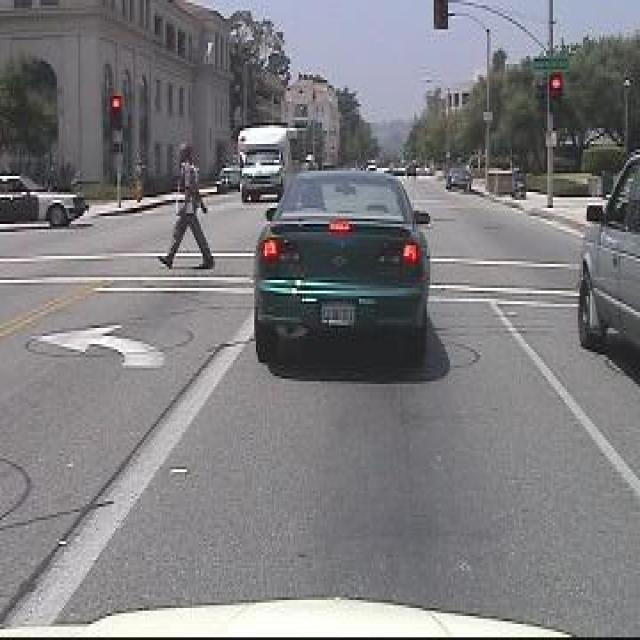car_back: (246, 163, 434, 370)
truck_front: (233, 124, 295, 204)
